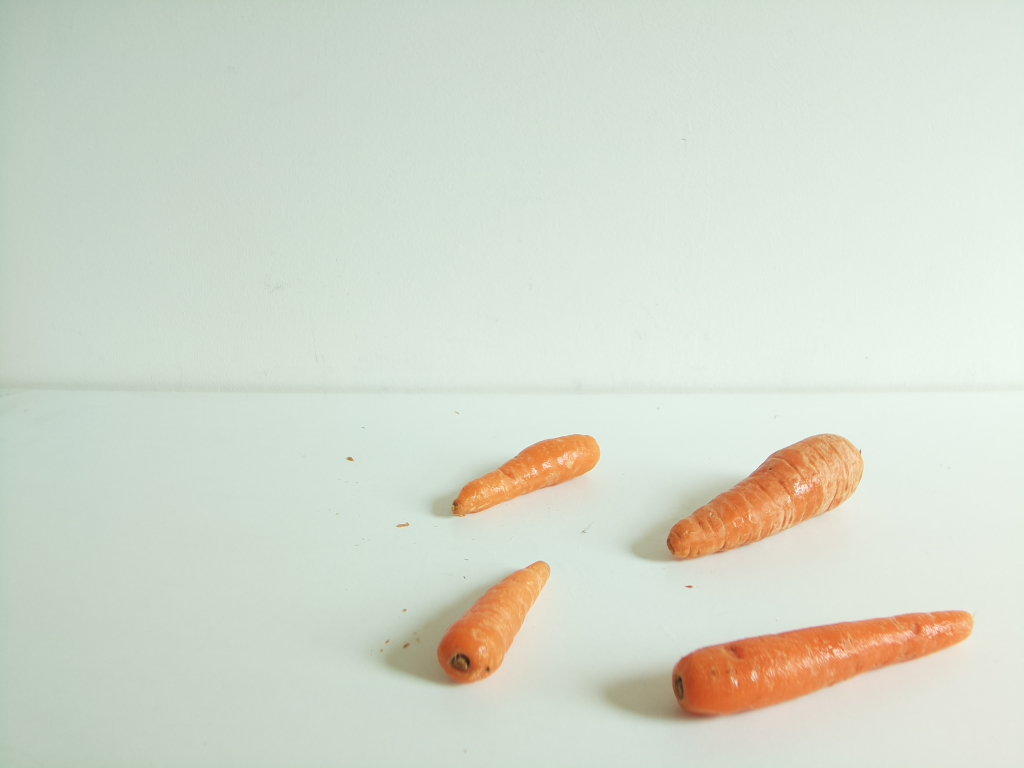carrot: (670, 605, 975, 721), (663, 431, 863, 563), (431, 552, 552, 687), (449, 431, 610, 521)
